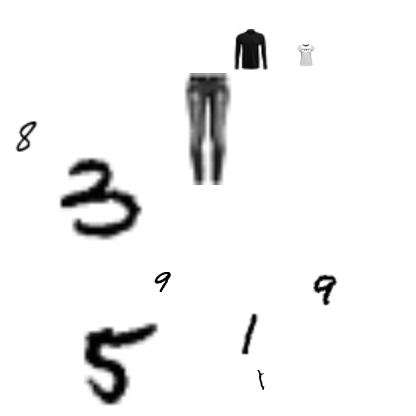1: (220, 306, 276, 362), (246, 365, 274, 393)
3: (41, 143, 153, 255)
5: (53, 300, 165, 412)
8: (4, 114, 46, 156)
9: (303, 266, 345, 308), (149, 265, 177, 293)
Pullover: (230, 29, 272, 71)
T-shirt/top: (295, 44, 317, 66)
Trouser: (150, 73, 262, 185)
